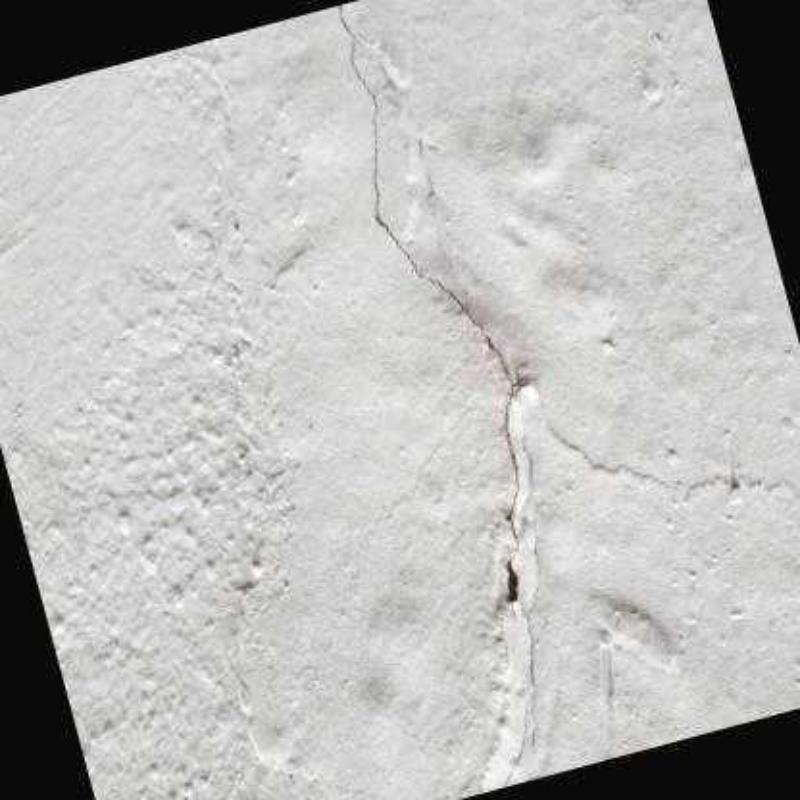pothole: (329, 1, 540, 751), (544, 415, 783, 502), (491, 694, 528, 790)
